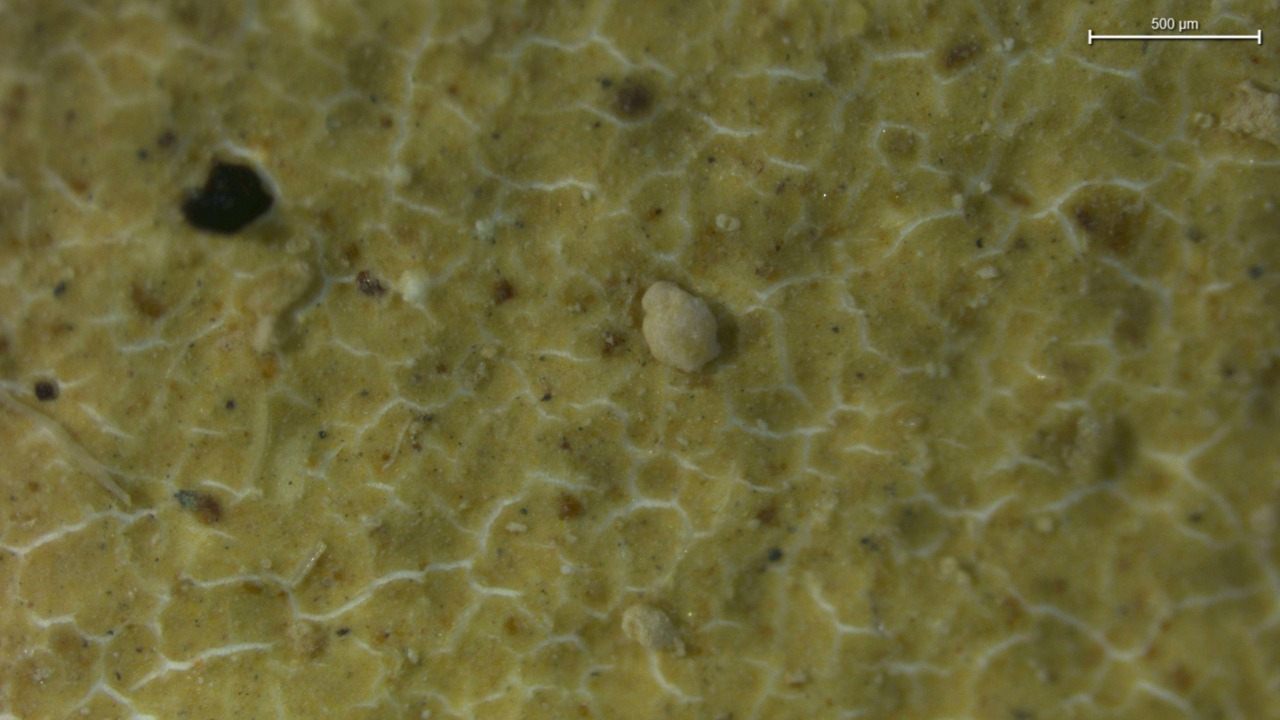microplastic_fragment: (642, 281, 720, 372), (181, 160, 274, 234), (621, 605, 684, 652)
